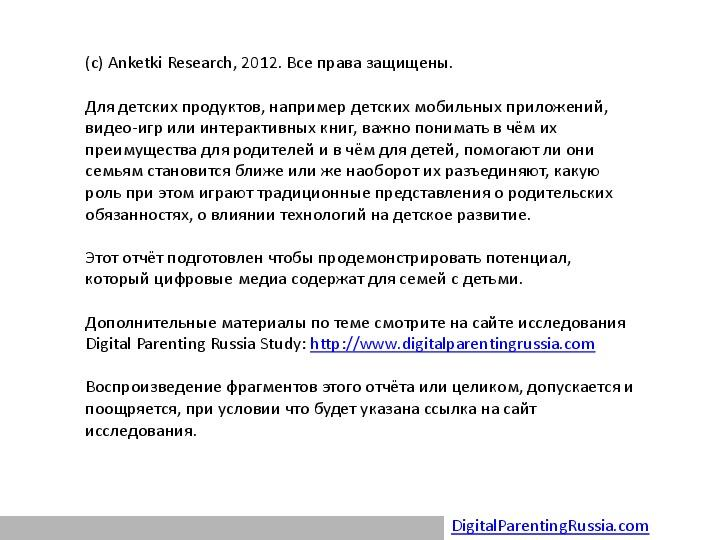paragraph: (57, 93, 669, 451)
subtitle: (448, 512, 668, 540)
title: (71, 37, 479, 85)
